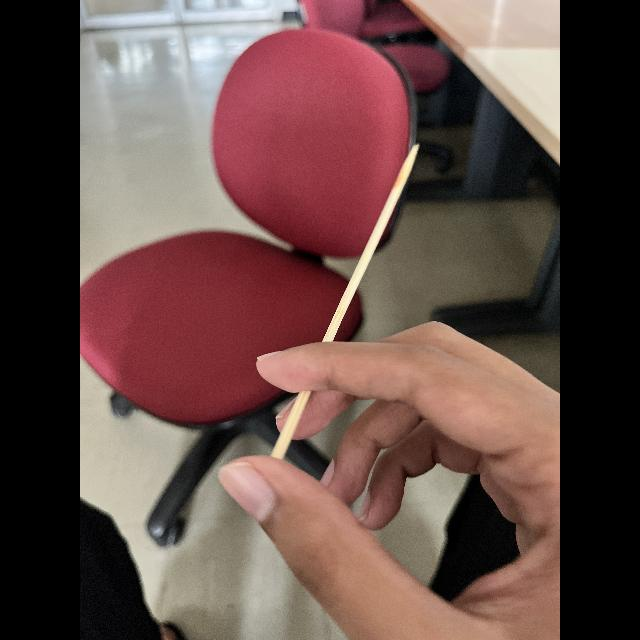stick: (263, 141, 423, 463)
